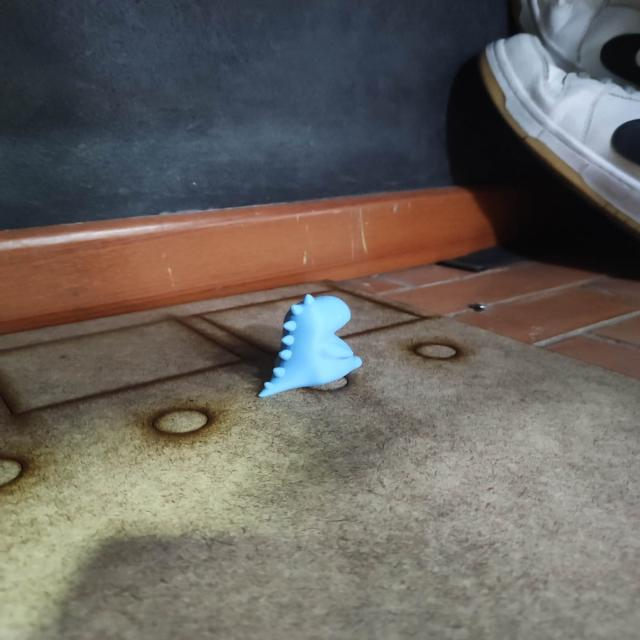DINO: (244, 292, 369, 394)
